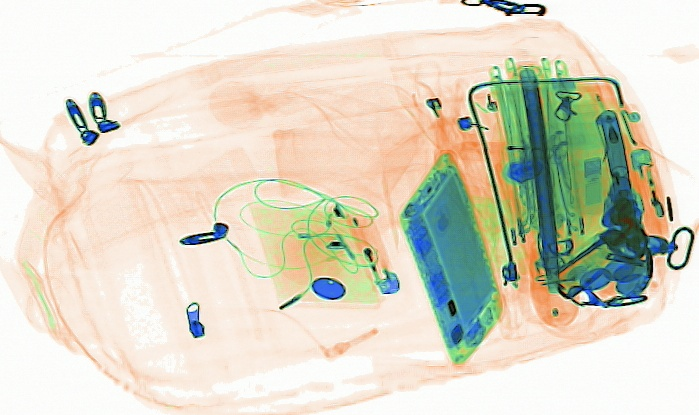lighter: (344, 210, 400, 296), (627, 146, 669, 241)
